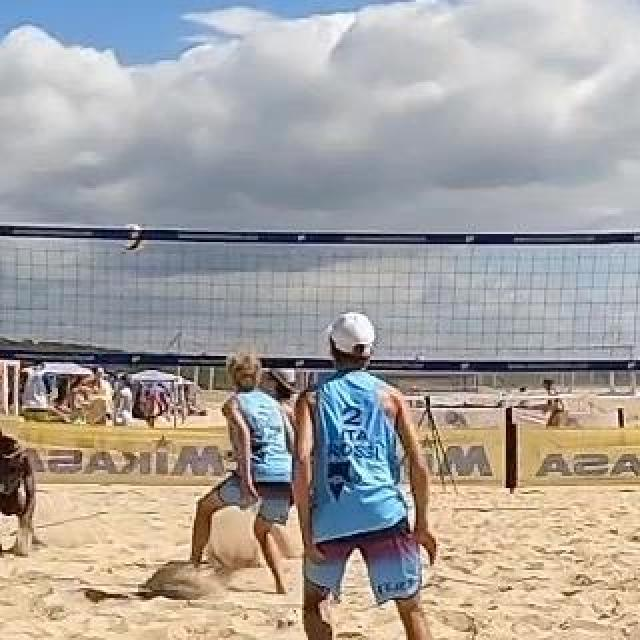volleyball: (120, 222, 148, 252)
